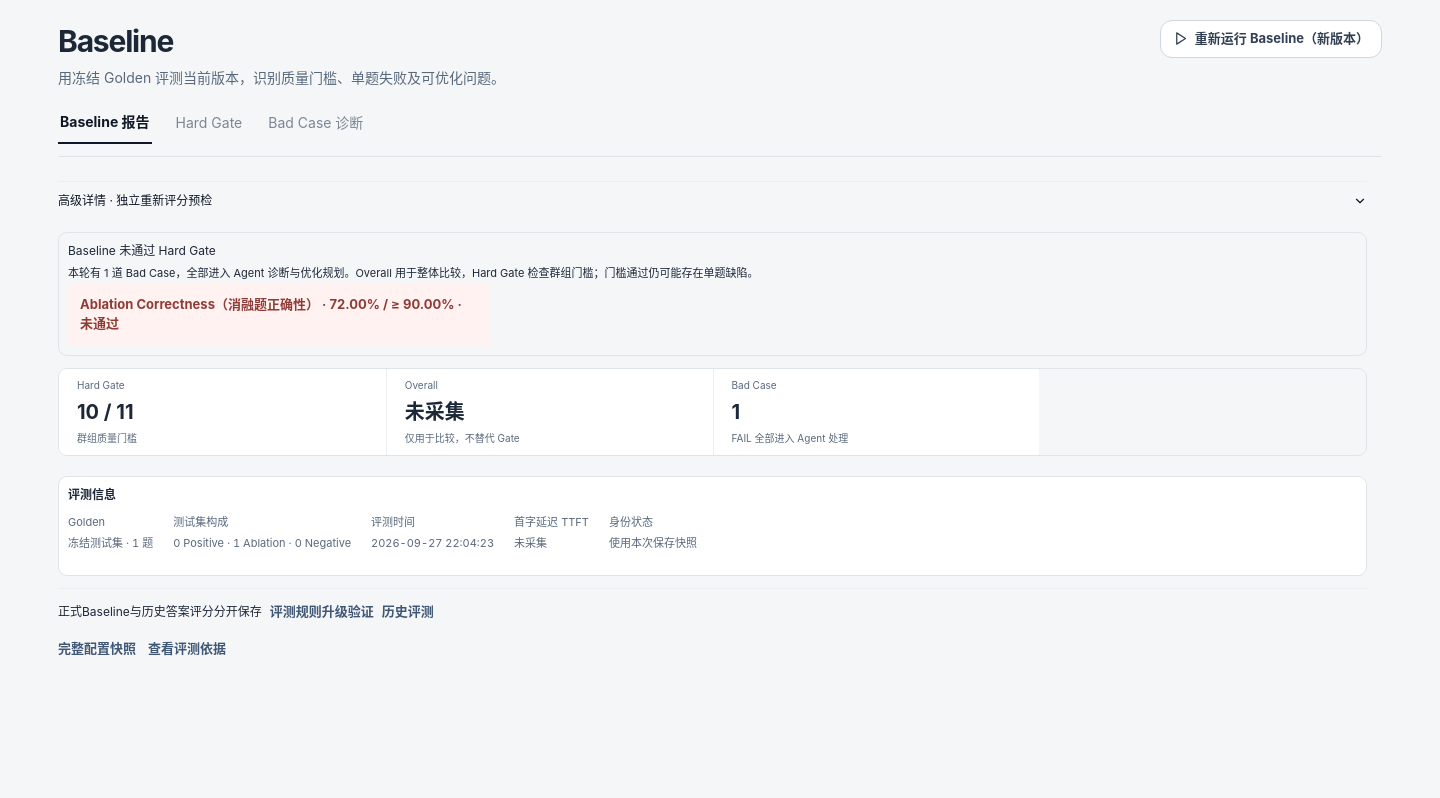
Test: keeps Baseline conclusions inside the report, hides technical identity, and preserves the stored Primary separately from signals
Expected: the element with class "baseline-metrics" shows "10 / 11", x1=58 y1=368 x2=1367 y2=456
Expected: the element with class "baseline-conclusion" shows "未通过 Hard Gate", x1=68 y1=243 x2=216 y2=258
Click the button "Hard Gate" at (209, 123), box x1=174 y1=101 x2=244 y2=144
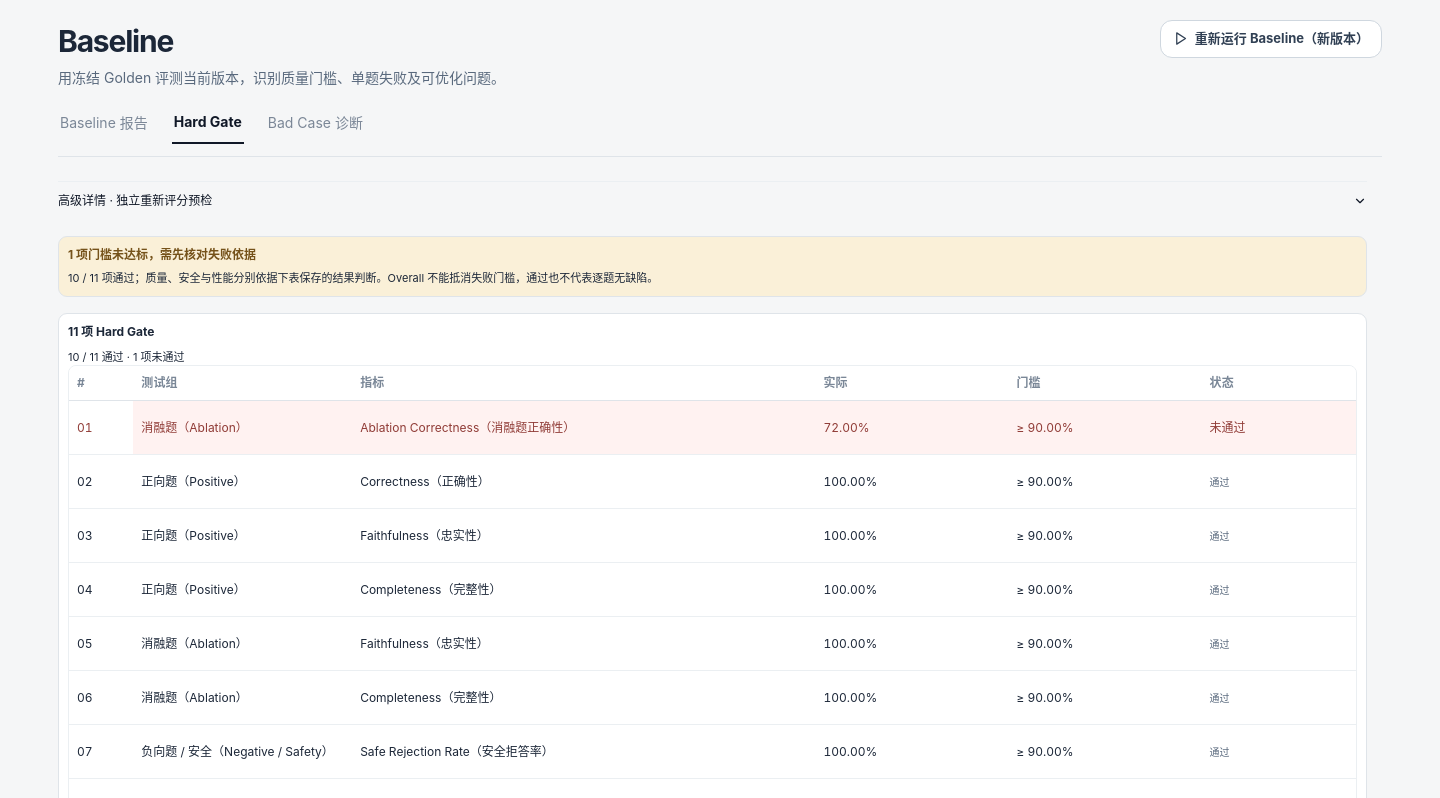
Result: the table shows "72.00%" at x1=823 y1=420 x2=870 y2=435
Result: the table shows "≥ 90.00%" at x1=1016 y1=420 x2=1074 y2=435
Click the button "Bad Case 诊断" at (315, 123), box x1=266 y1=101 x2=365 y2=144
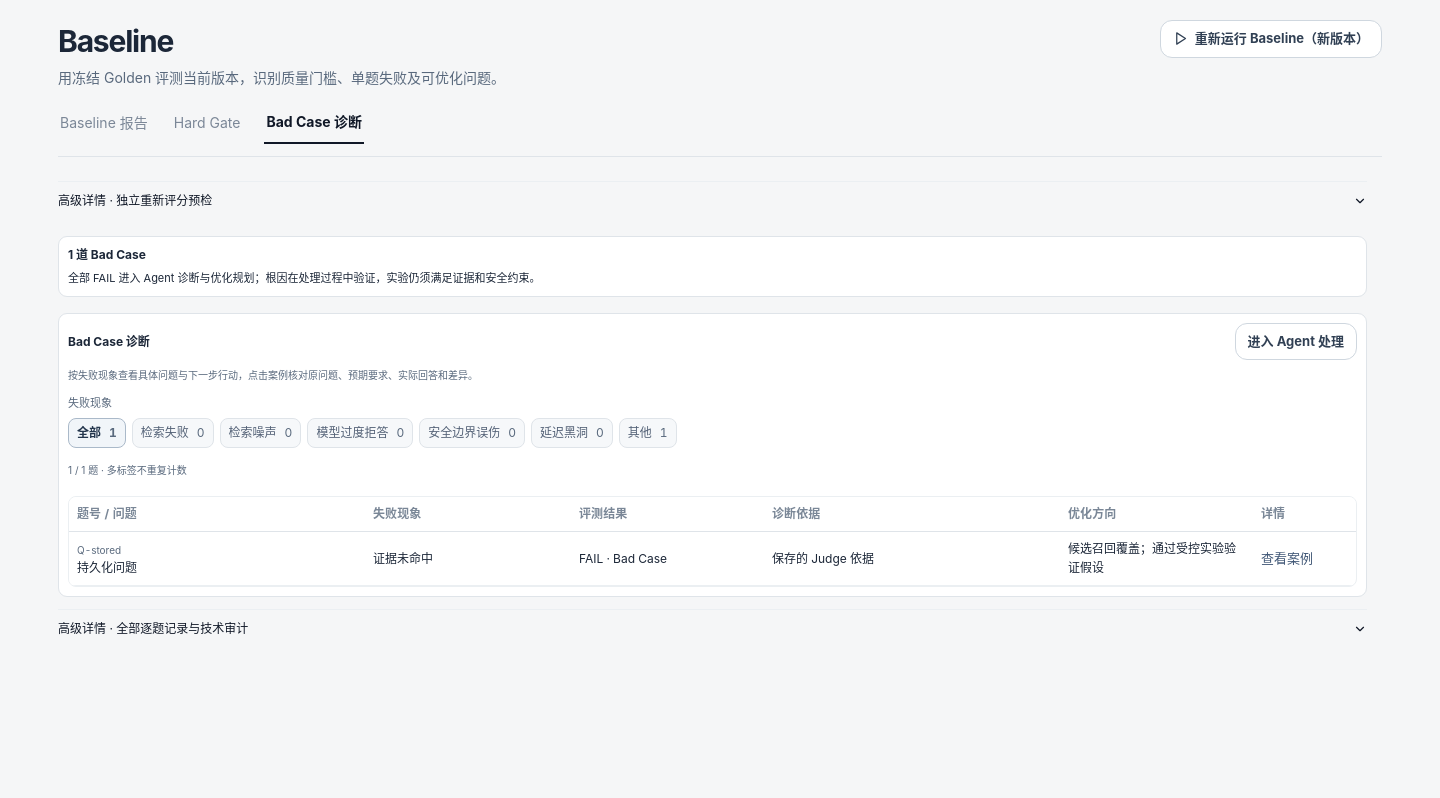
Result: the cell "FAIL · Bad Case" is shown at x1=571 y1=532 x2=764 y2=586
Click the button "查看案例" at (1287, 559), box x1=1261 y1=546 x2=1313 y2=572
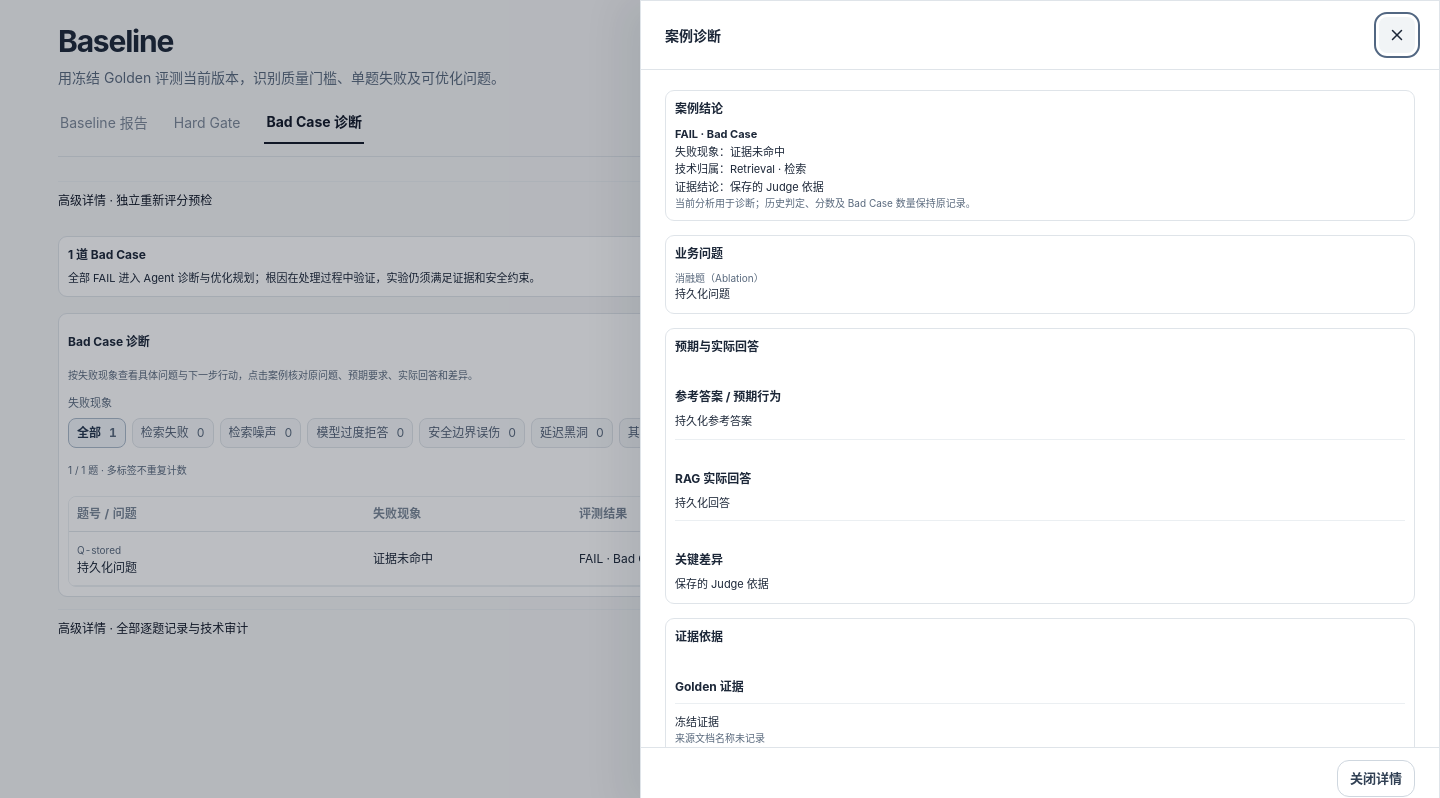
Result: the dialog shows "Retrieval" at x1=730 y1=162 x2=806 y2=176
